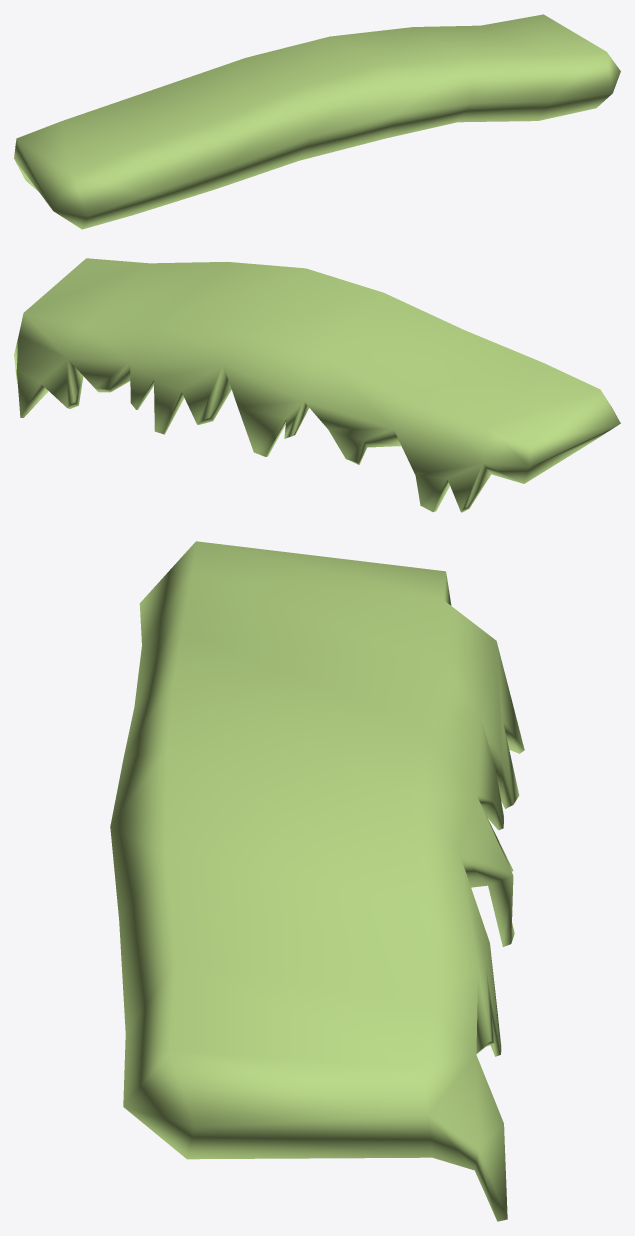
Rendered from platform_decor_1.fbx.
3 renders of one model, top to bottom at view 1: azimuth 30°, elevation 25°; view 2: azimuth 150°, elevation 25°; view 3: azimuth 270°, elevation 25°, orthographic. The views are drawn at different scales.
Parts seen in each view (by area): view 1: platform_decor_1; view 2: platform_decor_1; view 3: platform_decor_1.
Boxes of the visible parts, left/top/right/bottom form: platform_decor_1: left=14, top=14, right=620, bottom=229; platform_decor_1: left=14, top=258, right=620, bottom=512; platform_decor_1: left=110, top=541, right=524, bottom=1221.
Bounding box in the file's own units: 1558 × 366 × 499.
